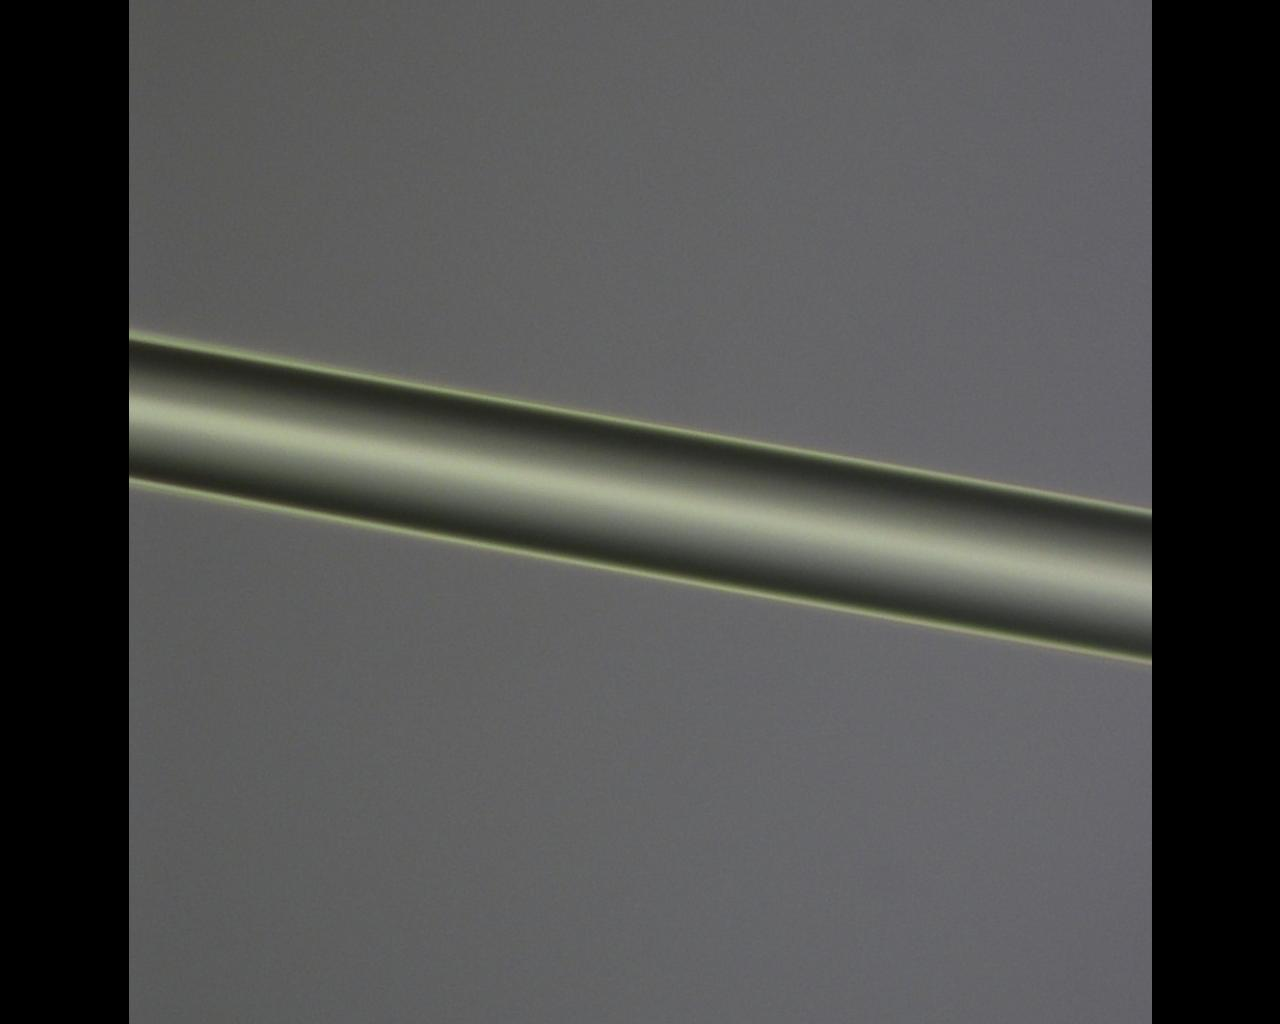fiber: (128, 511, 1152, 621)
